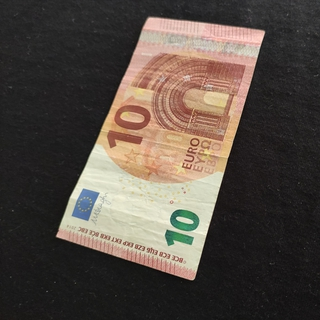10EUROFront: (55, 15, 265, 281)
